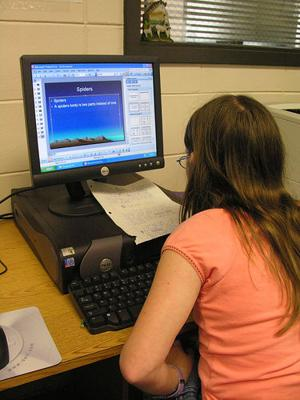person: (118, 94, 300, 400)
